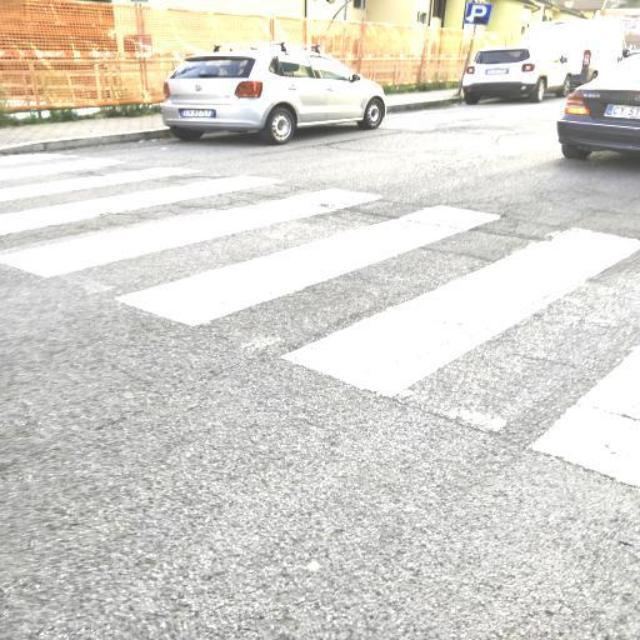sidewalk: (0, 144, 640, 487)
